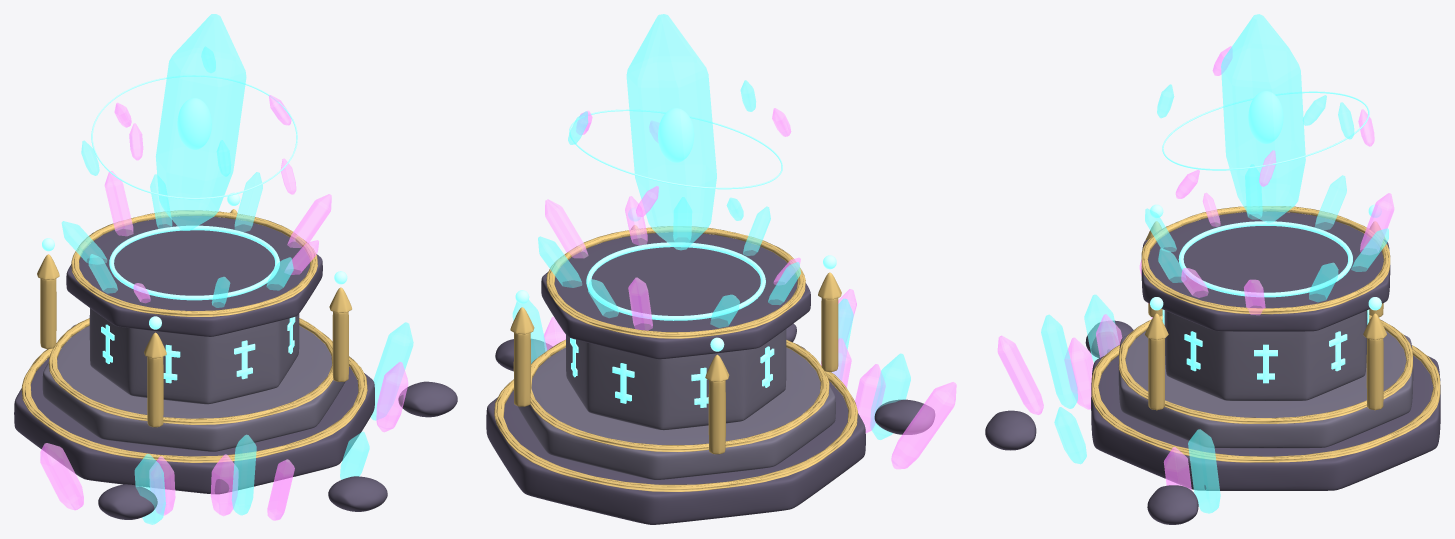
File: crystalaltar.glb
The picture shows the model from 3 angles, left to right: view 1: azimuth 30°, elevation 25°; view 2: azimuth 150°, elevation 25°; view 3: azimuth 270°, elevation 25°; orthographic projection. The views are drawn at different scales.
Parts seen in each view (by area): view 1: CrystalAltar_Stone2.001, CrystalAltar_Stone, CrystalAltar_Stone2, CrystalAltar_Crystal, CrystalAltar_Stone.001, CrystalAltar_Gold.010, CrystalAltar_Gold.008, CrystalAltar_Gold.009, CrystalAltar_Crystal.002, CrystalAltar_Rune.024, CrystalAltar_CrystalP.001, CrystalAltar_Stone2.002 (+22 smaller); view 2: CrystalAltar_Stone2.001, CrystalAltar_Stone2, CrystalAltar_Stone, CrystalAltar_Crystal, CrystalAltar_Stone.001, CrystalAltar_Gold.010, CrystalAltar_Gold.008, CrystalAltar_Gold.009, CrystalAltar_CrystalP.001, CrystalAltar_Rune.024, CrystalAltar_Stone2.003, CrystalAltar_Crystal.003 (+19 smaller); view 3: CrystalAltar_Stone2.001, CrystalAltar_Stone2, CrystalAltar_Stone, CrystalAltar_Crystal, CrystalAltar_Stone.001, CrystalAltar_Gold.008, CrystalAltar_Gold.010, CrystalAltar_Gold.009, CrystalAltar_Rune.024, CrystalAltar_Crystal.002, CrystalAltar_Crystal.004, CrystalAltar_Stone2.004 (+21 smaller).
Part boxes in pixels (x1,y1,x2,y2): CrystalAltar_Stone2.001: [66, 216, 322, 336]; CrystalAltar_Stone: [42, 324, 344, 451]; CrystalAltar_Stone2: [14, 349, 374, 494]; CrystalAltar_Crystal: [156, 14, 246, 230]; CrystalAltar_Stone.001: [89, 308, 299, 404]; CrystalAltar_Gold.010: [71, 210, 317, 316]; CrystalAltar_Gold.008: [21, 348, 367, 462]; CrystalAltar_Gold.009: [48, 318, 333, 424]; CrystalAltar_Crystal.002: [371, 322, 413, 420]; CrystalAltar_Rune.024: [109, 225, 279, 300]; CrystalAltar_CrystalP.001: [40, 443, 83, 510]; CrystalAltar_Stone2.002: [398, 381, 457, 417]; CrystalAltar_Stone2.001: [541, 232, 810, 359]; CrystalAltar_Stone2: [486, 381, 865, 524]; CrystalAltar_Stone: [517, 346, 835, 479]; CrystalAltar_Crystal: [626, 14, 716, 250]; CrystalAltar_Stone.001: [566, 329, 786, 430]; CrystalAltar_Gold.010: [546, 226, 805, 338]; CrystalAltar_Gold.008: [494, 371, 857, 491]; CrystalAltar_Gold.009: [530, 339, 829, 452]; CrystalAltar_CrystalP.001: [891, 382, 956, 469]; CrystalAltar_Rune.024: [586, 242, 765, 320]; CrystalAltar_Stone2.003: [874, 399, 934, 434]; CrystalAltar_Crystal.003: [870, 353, 910, 439]; CrystalAltar_Stone2.001: [1141, 211, 1390, 331]; CrystalAltar_Stone2: [1091, 355, 1440, 490]; CrystalAltar_Stone: [1118, 330, 1413, 448]; CrystalAltar_Crystal: [1221, 14, 1305, 223]; CrystalAltar_Stone.001: [1164, 310, 1367, 400]; CrystalAltar_Gold.008: [1091, 345, 1440, 462]; CrystalAltar_Gold.010: [1141, 206, 1390, 314]; CrystalAltar_Gold.009: [1119, 315, 1412, 423]; CrystalAltar_Rune.024: [1178, 221, 1352, 297]; CrystalAltar_Crystal.002: [1188, 429, 1220, 513]; CrystalAltar_Crystal.004: [1041, 314, 1077, 408]; CrystalAltar_Stone2.004: [985, 410, 1036, 450].
Size of the model in its own units: 5.01 by 4.78 by 4.57.
